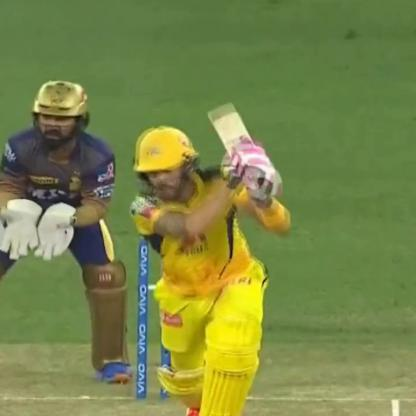bat: (202, 93, 273, 201)
